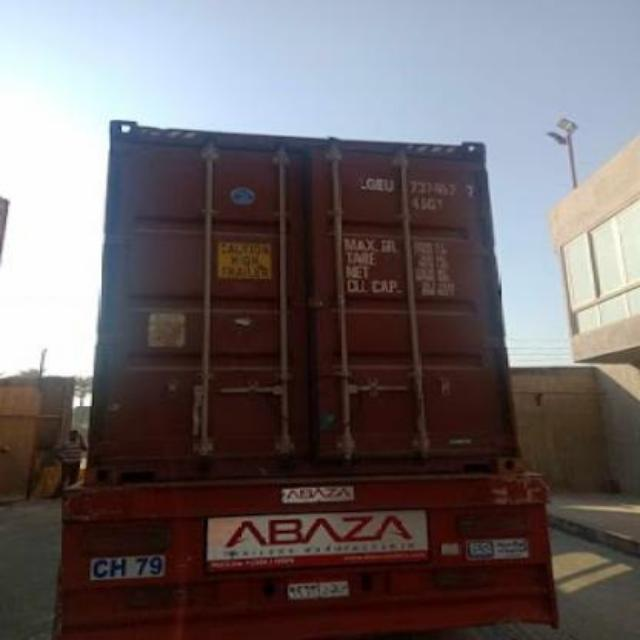3: (416, 176, 424, 197)
5: (440, 177, 448, 200), (432, 178, 440, 198)
7: (462, 178, 476, 198), (448, 177, 458, 200), (408, 176, 416, 198), (424, 178, 432, 198)
E: (376, 175, 384, 191)
G: (366, 173, 376, 191)
L: (354, 170, 366, 192)
U: (382, 177, 394, 193)
